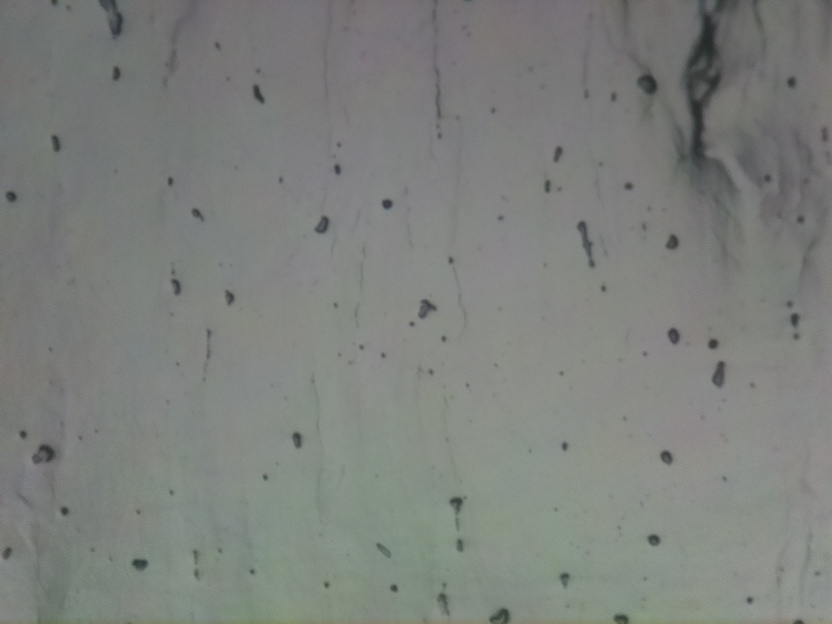crack: (663, 1, 729, 153)
